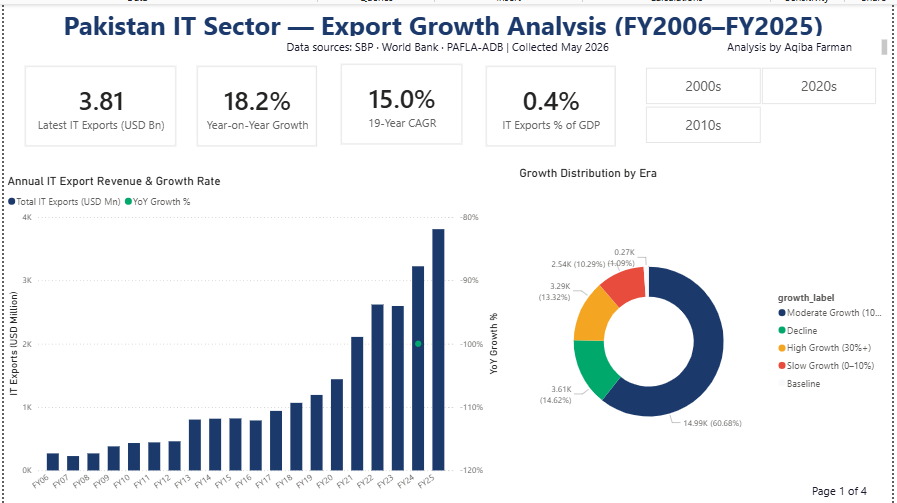

The dashboard page shown, as its layout file describes it:
{"tool":"powerbi","page":{"name":"IT Export Growth Story","canvas":[1280,720],"ordinal":0},"visuals":[{"type":"textbox","box":[80.1,0,1139.8,70.9],"z":0},{"type":"cardVisual","fields":{"Data":["FactITExports.Total IT Exports (USD Bn)"]},"box":[12.3,70.9,209.5,151],"z":1000},{"type":"cardVisual","fields":{"Data":["FactITExports.YoY Growth %"]},"box":[221.8,70.9,207.9,151],"z":2000},{"type":"cardVisual","fields":{"Data":["FactITExports.CAGR Since 2006"]},"box":[429.7,70.9,207.9,151],"z":3000},{"type":"cardVisual","fields":{"Data":["FactITExports.IT Exports % of GDP"]},"box":[626.9,70.9,221.8,151],"z":4000},{"type":"lineClusteredColumnComboChart","title":"Annual IT Export Revenue & Growth Rate","fields":{"Category":["FactITExports.fiscal_year"],"Y":["FactITExports.Total IT Exports (USD Mn)"],"Y2":["FactITExports.YoY Growth %"]},"box":[0,244.8,717.1,475.2],"z":5000},{"type":"slicer","fields":{"Values":["FactITExports.decade"]},"box":[848.2,85,432,122.4],"z":6000},{"type":"donutChart","title":"Growth Distribution by Era","fields":{"Category":["FactITExports.growth_label"],"Y":["FactITExports.Total IT Exports (USD Mn)"]},"box":[737.8,232.6,542.2,486.7],"z":7000},{"type":"textbox","box":[401.8,46.1,617.8,38.9],"z":7001},{"type":"textbox","box":[1036.8,46.1,240.5,38.9],"z":7002},{"type":"textbox","box":[1129,685.4,148.3,34.6],"z":7003}]}

Visuals, with their boxes on the page's 1280x720 design canvas (x1, y1, x2, y2). These are canvas units, not pixel positions in the 897x503 screenshot, which may show the page scaled, cropped or inside an application window:
textbox: left=80, top=0, right=1220, bottom=71
cardVisual - FactITExports.Total IT Exports (USD Bn): left=12, top=71, right=222, bottom=222
cardVisual - FactITExports.YoY Growth %: left=222, top=71, right=430, bottom=222
cardVisual - FactITExports.CAGR Since 2006: left=430, top=71, right=638, bottom=222
cardVisual - FactITExports.IT Exports % of GDP: left=627, top=71, right=849, bottom=222
"Annual IT Export Revenue & Growth Rate" lineClusteredColumnComboChart: left=0, top=245, right=717, bottom=720
slicer - FactITExports.decade: left=848, top=85, right=1280, bottom=207
"Growth Distribution by Era" donutChart: left=738, top=233, right=1280, bottom=719
textbox: left=402, top=46, right=1020, bottom=85
textbox: left=1037, top=46, right=1277, bottom=85
textbox: left=1129, top=685, right=1277, bottom=720
